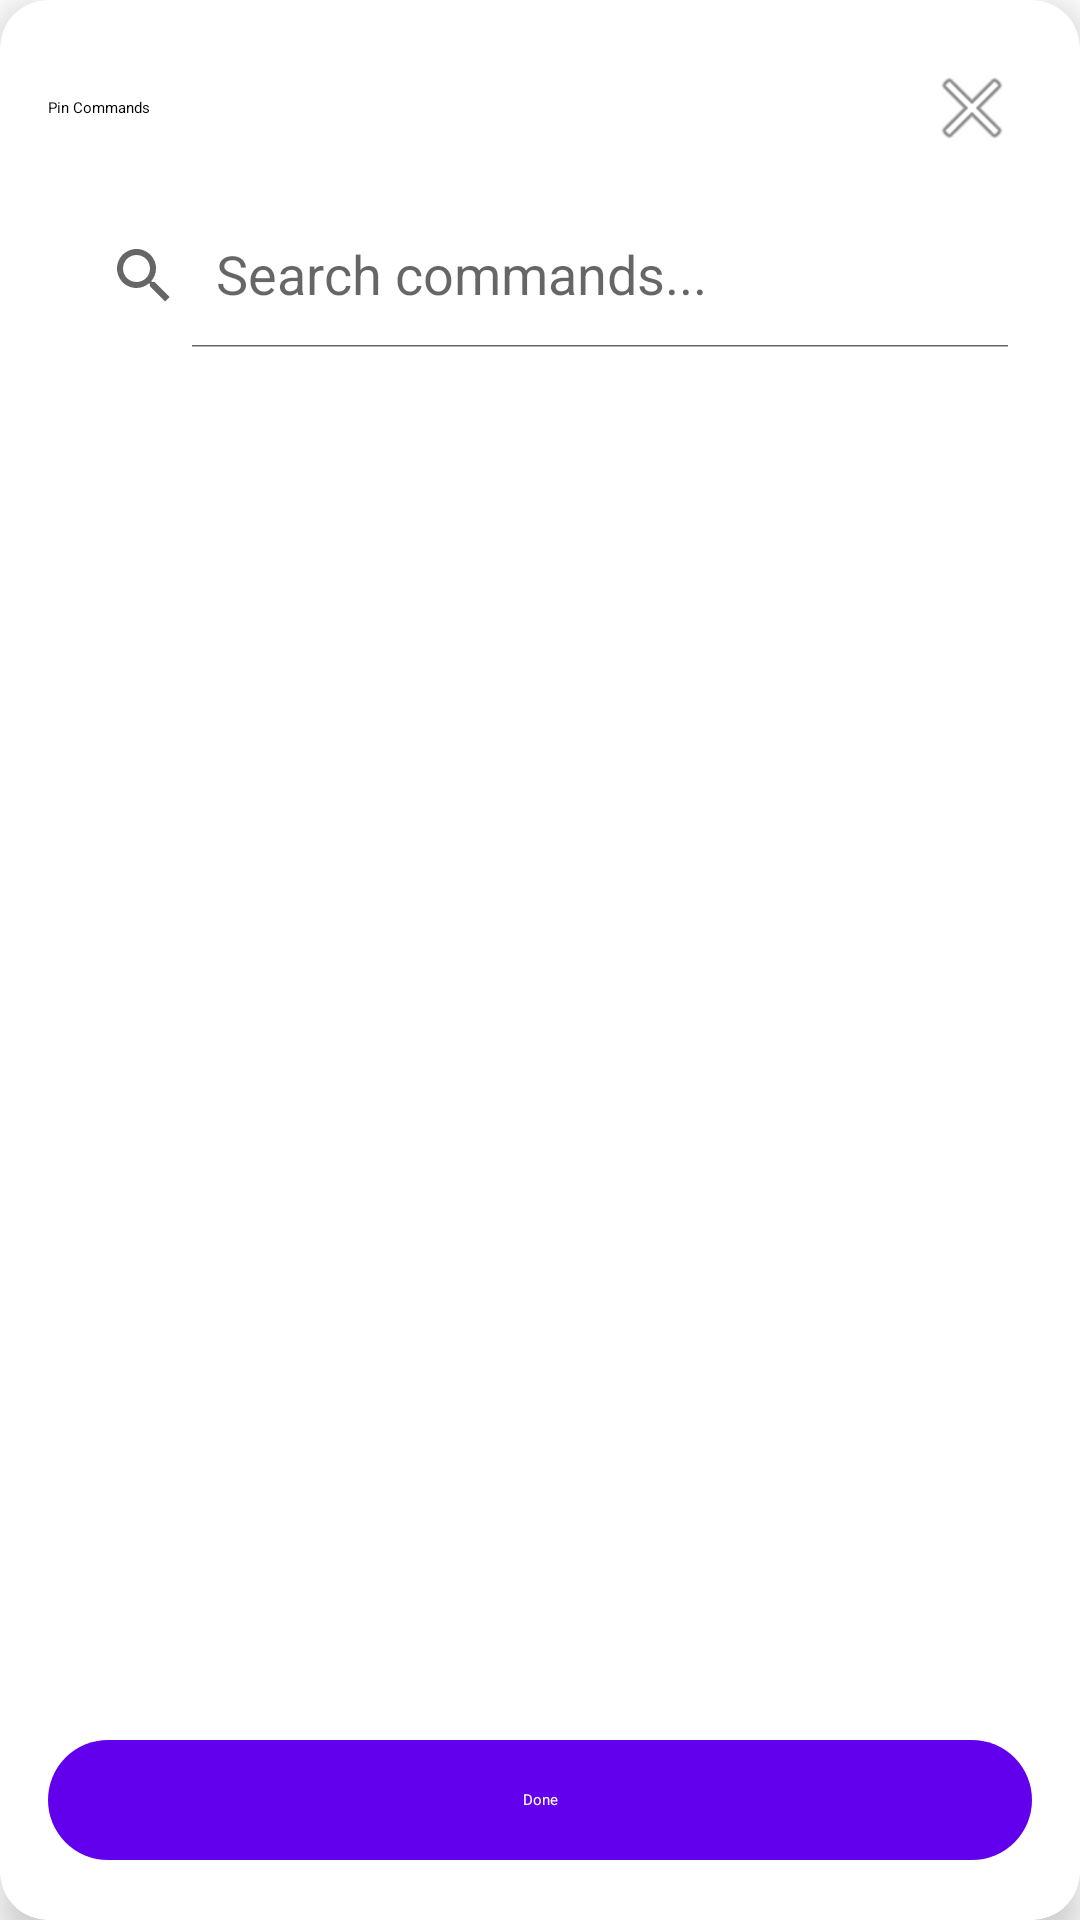

Named icons in this screenshot (1080px x 1920px) and their bounding boxes, (x1, y1, x2, y2):
close clear cancel: (942, 78, 1002, 138)
